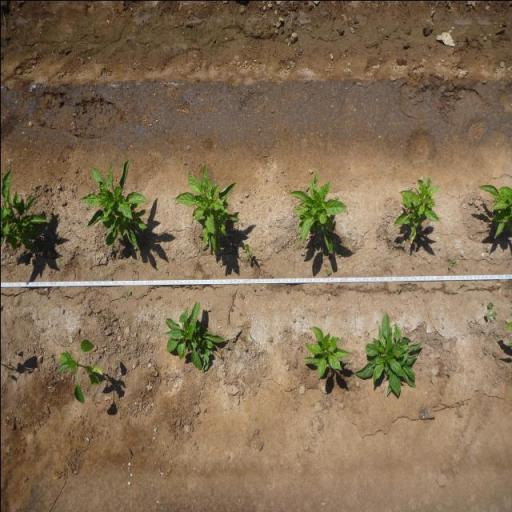plant: (79, 158, 148, 253), (172, 162, 241, 256), (354, 312, 425, 402), (285, 165, 352, 255), (160, 298, 230, 373), (0, 163, 51, 258), (390, 171, 443, 244), (57, 336, 104, 406), (302, 324, 346, 379), (474, 179, 512, 240)
weed: (484, 300, 496, 321), (242, 242, 254, 260), (120, 288, 130, 302), (447, 258, 457, 270), (334, 246, 342, 256), (395, 284, 402, 294), (154, 294, 161, 300), (349, 373, 354, 381), (326, 269, 331, 275), (346, 358, 350, 365)
